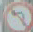Don't turn left: (2, 1, 32, 29)
